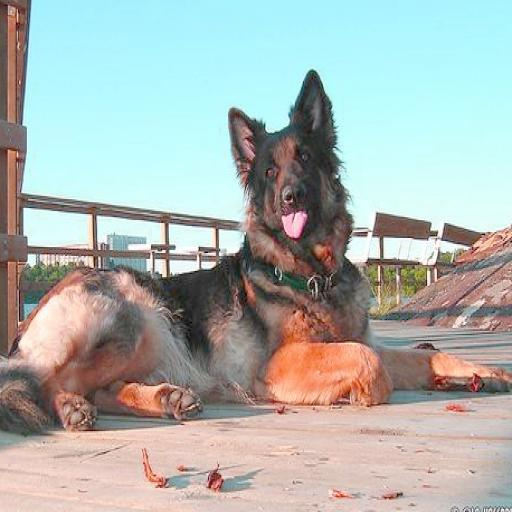dog_face: (218, 69, 342, 248)
